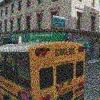buses: (1, 40, 86, 100)
